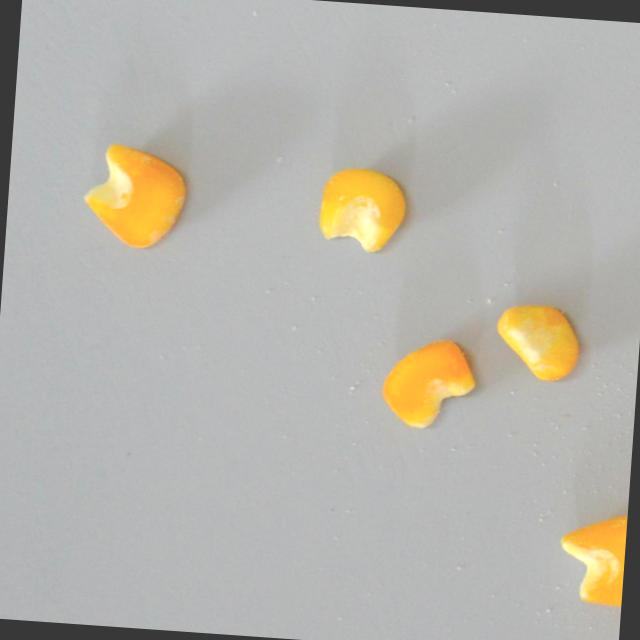no_canjicado: (378, 333, 479, 429), (555, 508, 627, 606)
no_desgerminado: (316, 162, 409, 252)
pelicula: (79, 139, 189, 250), (492, 300, 581, 381)
